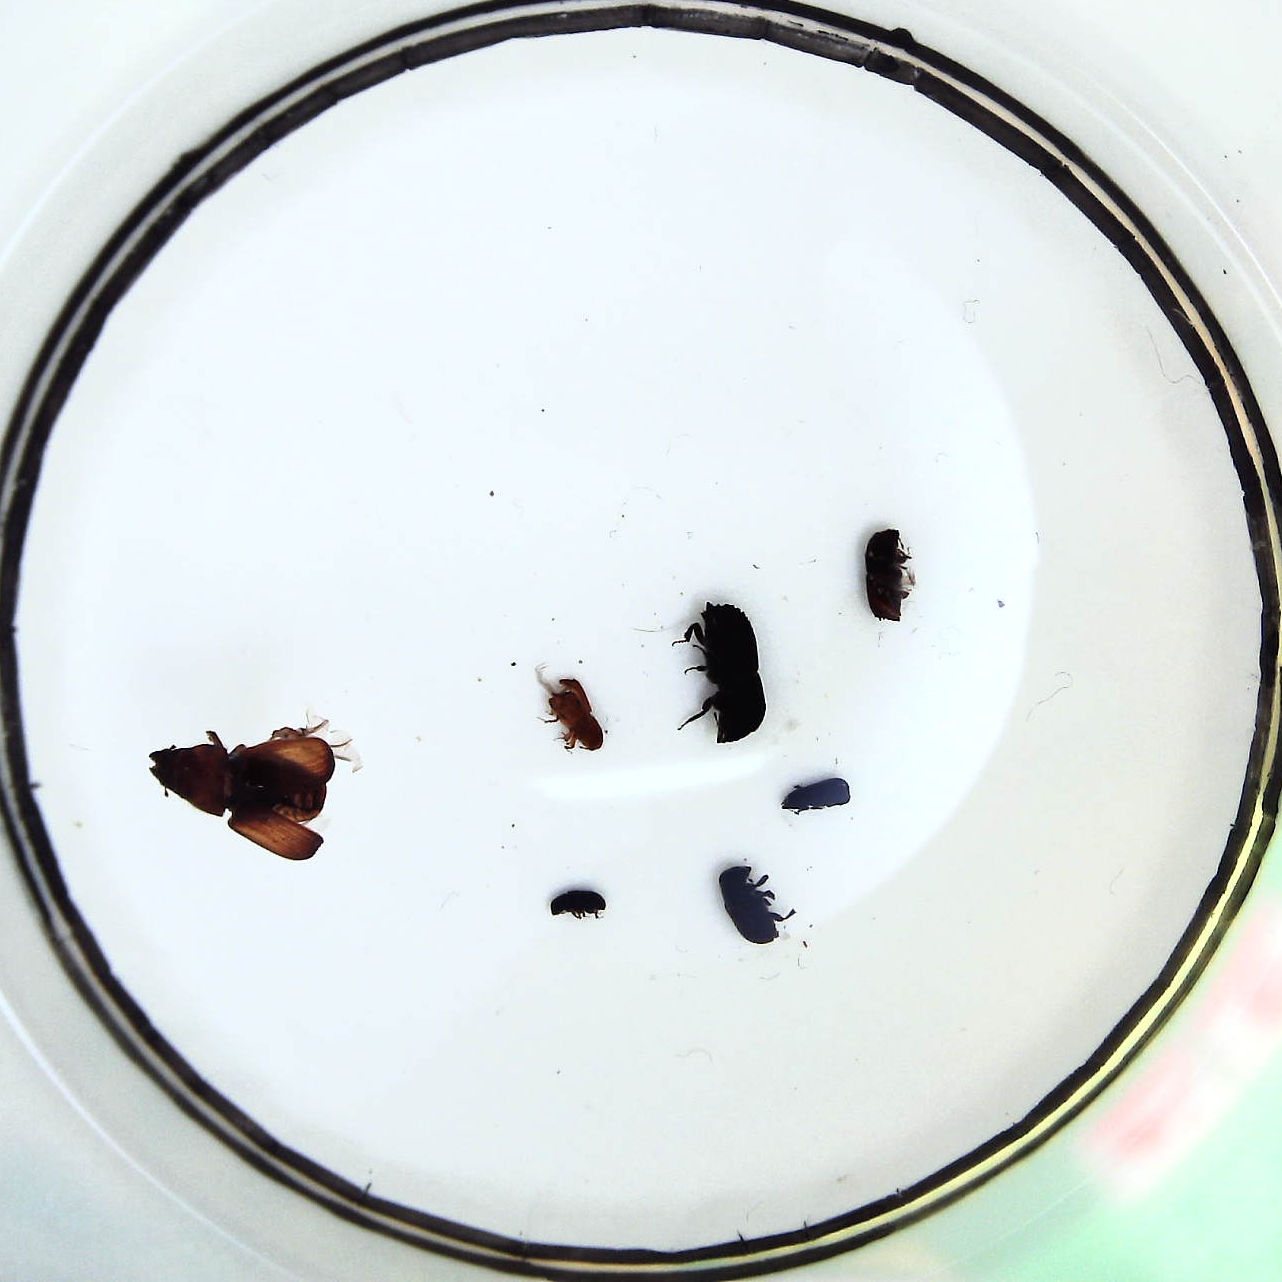Boerner: (684, 603, 765, 745)
Leconte: (148, 727, 331, 859)
Linnaeus: (862, 528, 910, 622)
acuminatus: (541, 682, 603, 749)
armandi: (716, 868, 783, 943)
coleoptera: (780, 776, 850, 815), (549, 892, 605, 919)
